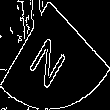N_NE: (32, 23, 78, 87)
